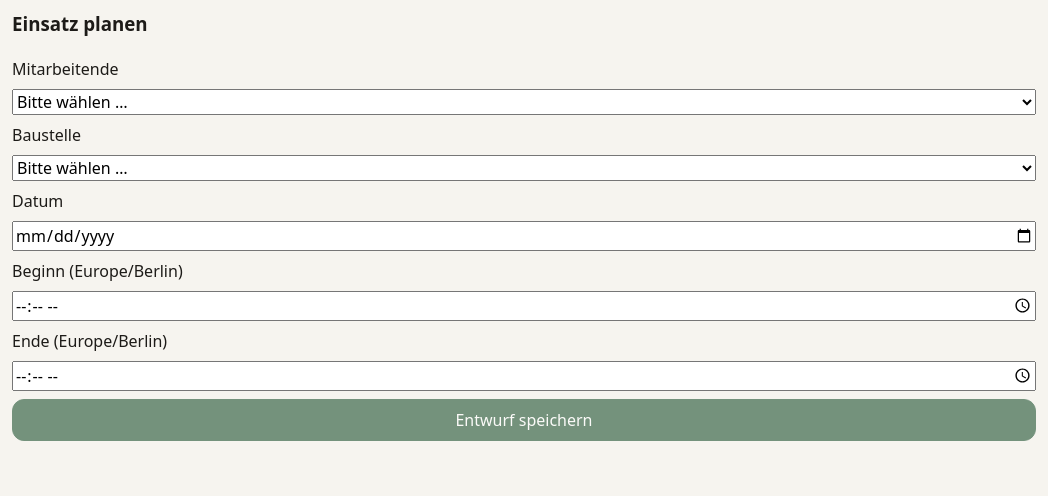
it: AssignmentForm — vollstaendige Eingabe › meldet Erfolg mit Text und Statusrolle statt nur über Farbe
Step 1. Select "Anna Berg" in the dropdown with test id "feld-employee" → point(524, 102), box left=12, top=88, right=1036, bottom=114
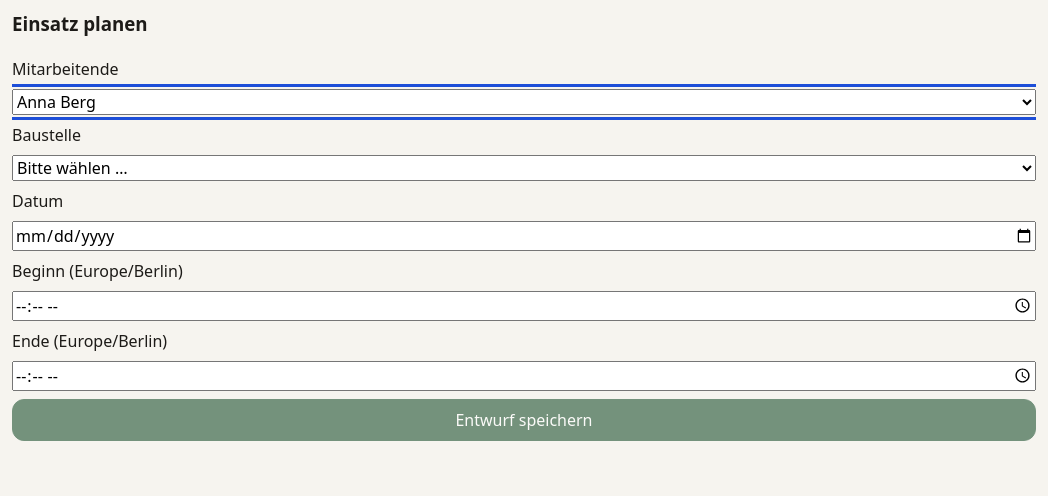
Step 2. Select "Baustelle Nord" in the dropdown with test id "feld-worksite" → point(524, 168), box left=12, top=154, right=1036, bottom=180
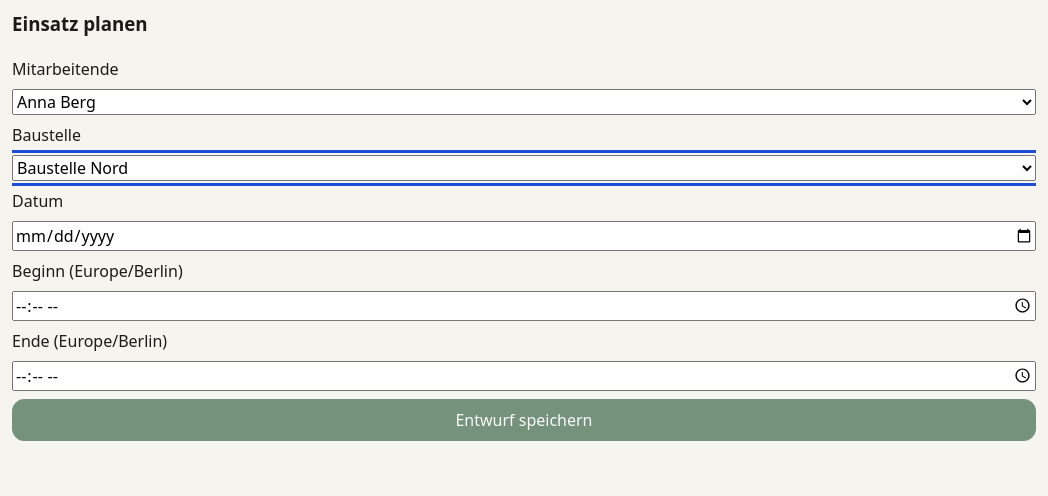
Step 3. Type "2026-08-03" into the date field with test id "feld-datum" → point(524, 236), box left=12, top=220, right=1036, bottom=250
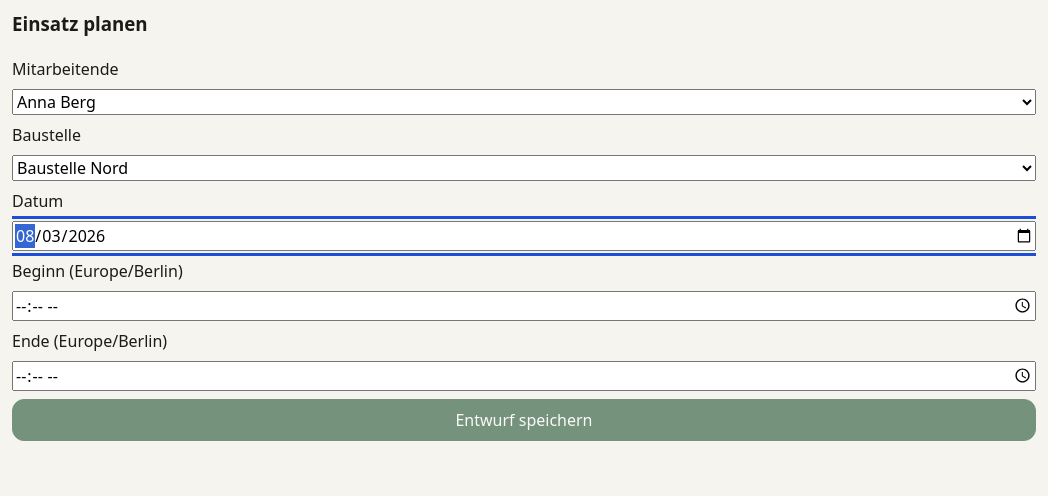
Step 4. Type "08:00" into the time field with test id "feld-beginn" → point(524, 306), box left=12, top=290, right=1036, bottom=320
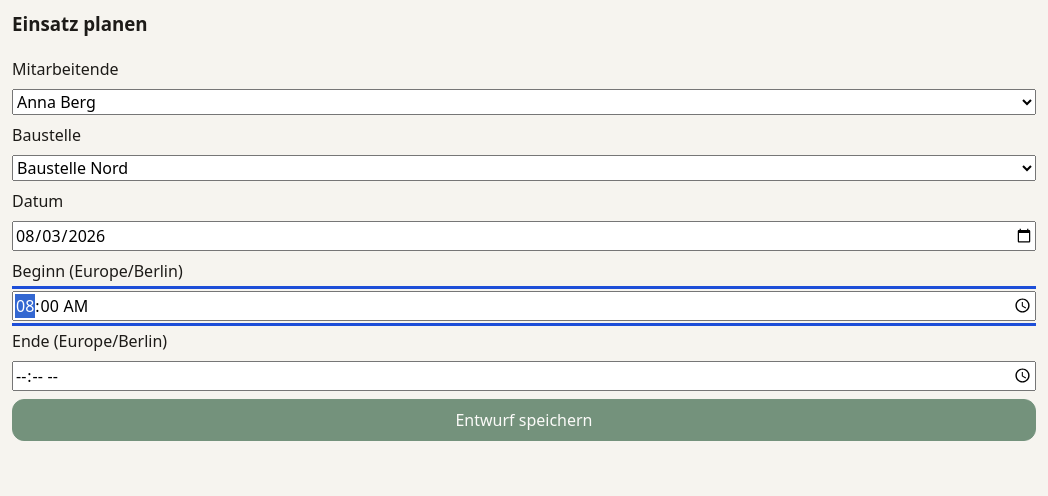
Step 5. Type "16:00" into the time field with test id "feld-ende" → point(524, 376), box left=12, top=360, right=1036, bottom=390
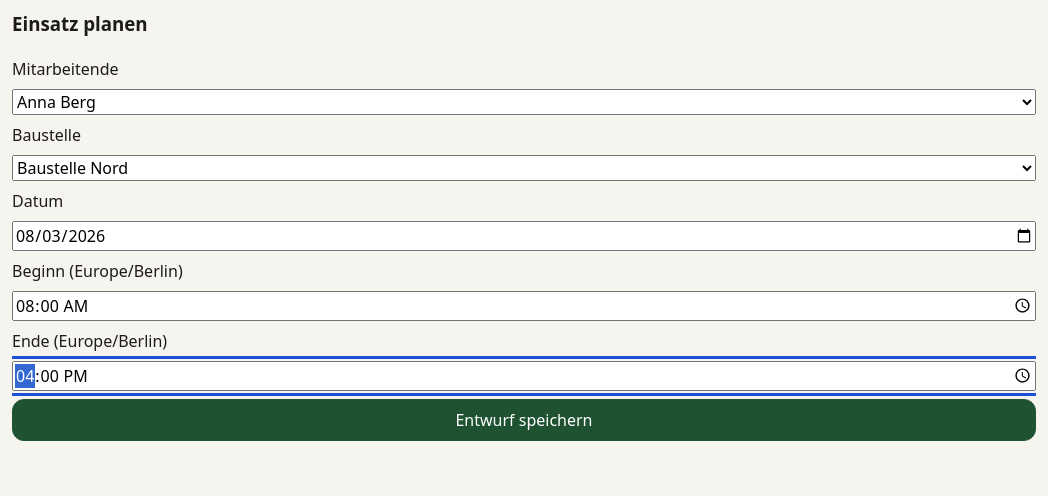
Step 6. Click the button with test id "einsatz-speichern" → point(524, 420), box left=12, top=398, right=1036, bottom=440
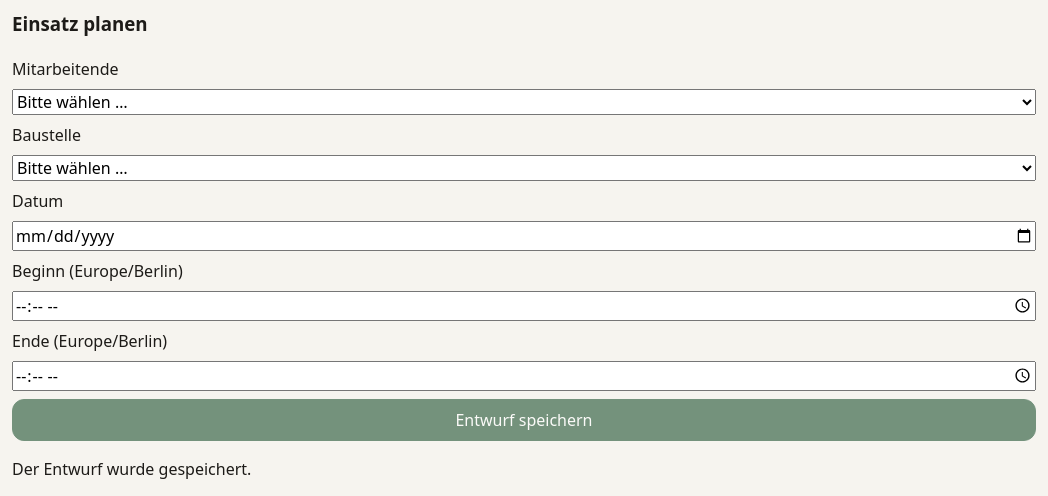
Expected: the message shows "gespeichert", left=12, top=458, right=251, bottom=480
